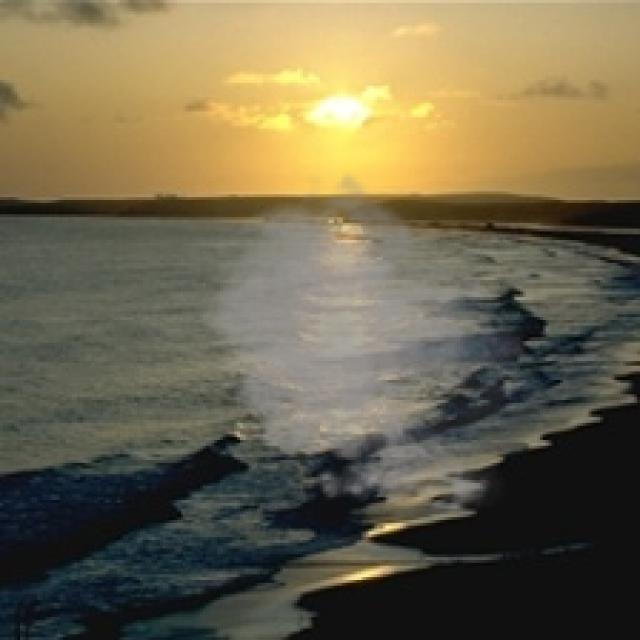smoke: (188, 171, 548, 520)
